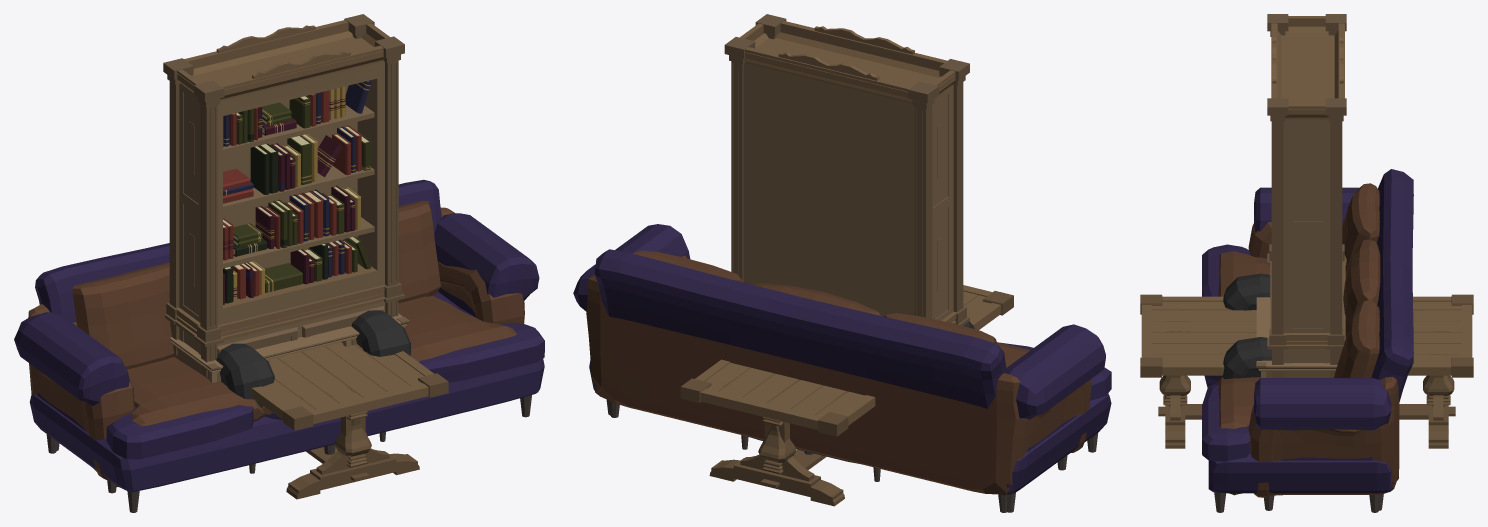
Rendered from apartment-furniture.glb.
The picture shows the model from 3 angles, left to right: view 1: azimuth 30°, elevation 25°; view 2: azimuth 150°, elevation 25°; view 3: azimuth 270°, elevation 25°; orthographic projection. The views are drawn at different scales.
Parts seen in each view (by area): view 1: BookCase_Single (×2), Sofa, Sofa2, Table, Sofa_Individual, Table2, Desk_Drawer3; view 2: BookCase_Single, Sofa, Sofa2, Table, Table2; view 3: BookCase_Single, Sofa, Sofa2, Table, Table2, Sofa_Individual, Desk_Drawer3.
Boxes of the visible parts, x1=… form: BookCase_Single (×2): x1=163, y1=14, x2=404, y2=377; Sofa: x1=14, y1=179, x2=544, y2=512; Sofa2: x1=28, y1=201, x2=524, y2=493; Table: x1=251, y1=342, x2=448, y2=499; Sofa_Individual: x1=216, y1=310, x2=410, y2=473; Table2: x1=252, y1=345, x2=433, y2=498; Desk_Drawer3: x1=169, y1=313, x2=409, y2=382; BookCase_Single: x1=724, y1=14, x2=969, y2=325; Sofa: x1=573, y1=224, x2=1111, y2=512; Sofa2: x1=586, y1=250, x2=1094, y2=512; Table: x1=680, y1=285, x2=1013, y2=506; Table2: x1=698, y1=291, x2=1000, y2=500; BookCase_Single: x1=1267, y1=14, x2=1346, y2=377; Sofa: x1=1202, y1=169, x2=1413, y2=512; Sofa2: x1=1217, y1=183, x2=1399, y2=510; Table: x1=1140, y1=294, x2=1473, y2=448; Table2: x1=1152, y1=296, x2=1461, y2=442; Sofa_Individual: x1=1221, y1=273, x2=1342, y2=379; Desk_Drawer3: x1=1256, y1=273, x2=1337, y2=377.
Size of the model in its own units: 4.24 by 3.37 by 2.78.
